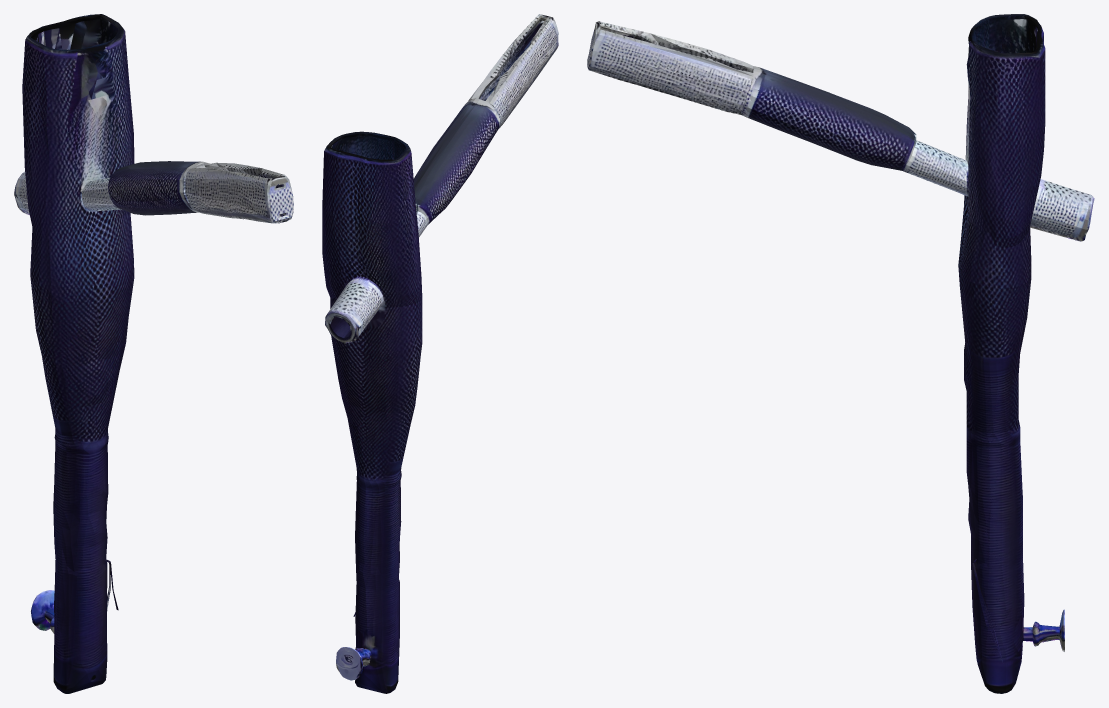
The model's file is tripo_convert_4a632367-5eae-4047-bb49-b17508407229.glb.
The picture shows the model from 3 angles, left to right: view 1: azimuth 30°, elevation 25°; view 2: azimuth 150°, elevation 25°; view 3: azimuth 270°, elevation 25°; orthographic projection. The views are drawn at different scales.
Visible parts, largest first — view 1: tripo_part_3, tripo_part_4, tripo_part_0, tripo_part_1, tripo_part_6, tripo_part_2, tripo_part_5; view 2: tripo_part_3, tripo_part_4, tripo_part_1, tripo_part_0, tripo_part_5, tripo_part_6; view 3: tripo_part_3, tripo_part_4, tripo_part_1, tripo_part_0, tripo_part_5, tripo_part_6.
Part boxes in pixels (x1,y1,x2,y2): tripo_part_3: (30,211,134,693); tripo_part_4: (22,14,134,238); tripo_part_0: (185,162,293,223); tripo_part_1: (82,161,210,215); tripo_part_6: (31,590,54,633); tripo_part_2: (82,186,121,211); tripo_part_5: (14,171,82,215); tripo_part_3: (330,298,422,693); tripo_part_4: (322,131,422,307); tripo_part_1: (413,98,500,231); tripo_part_0: (468,14,558,128); tripo_part_5: (325,276,383,343); tripo_part_6: (336,647,371,680); tripo_part_3: (958,208,1031,693); tripo_part_4: (964,14,1045,247); tripo_part_1: (740,66,968,192); tripo_part_0: (587,21,753,114); tripo_part_5: (965,170,1094,241); tripo_part_6: (1023,609,1064,651).
Size of the model in its own units: 0.1554 by 0.9489 by 0.66.
7 materials, 7 textured.
